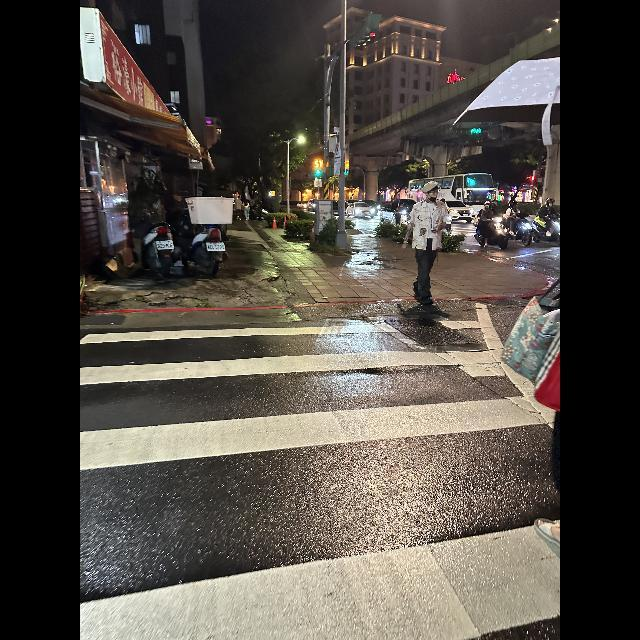sidewalk: (80, 300, 560, 640)
